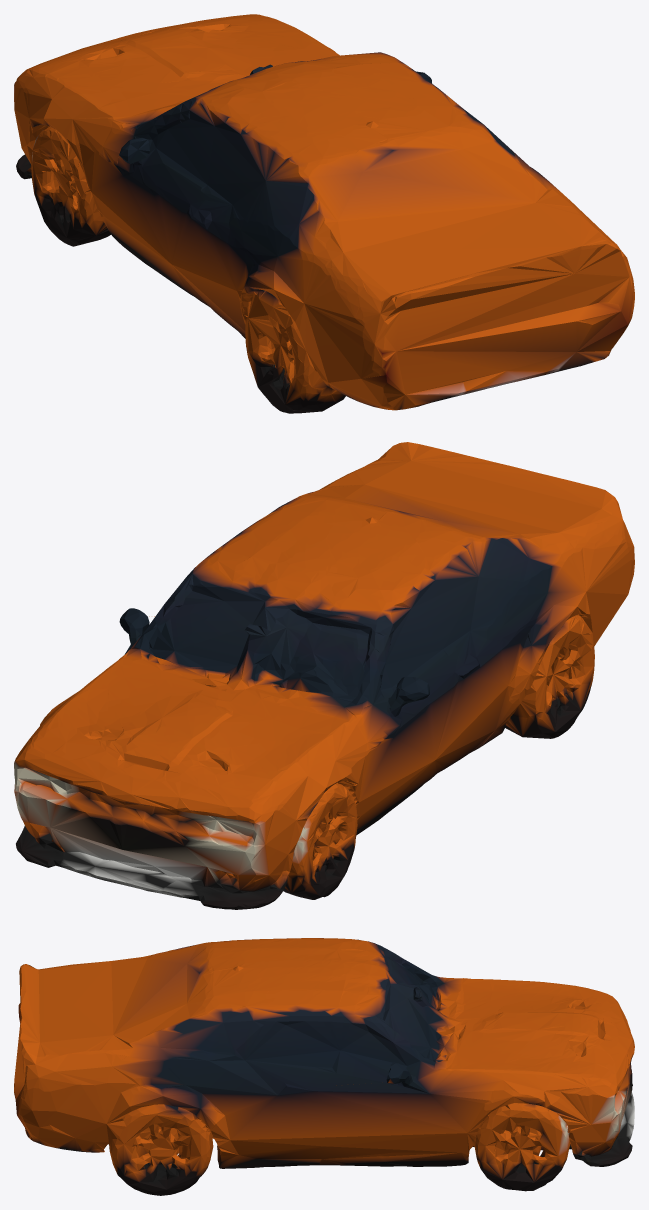
File: challenger_lod1.glb
The picture shows the model from 3 angles, top to bottom: view 1: azimuth 30°, elevation 25°; view 2: azimuth 150°, elevation 25°; view 3: azimuth 270°, elevation 25°; orthographic projection. The views are drawn at different scales.
Visible parts, largest first — view 1: world; view 2: world; view 3: world.
Boxes of the visible parts, x1,y1,x2,y2 form: world: (14,14,634,413); world: (14,442,634,909); world: (14,938,634,1195).
Bounding box in the file's own units: 97.26 × 67.52 × 212.
